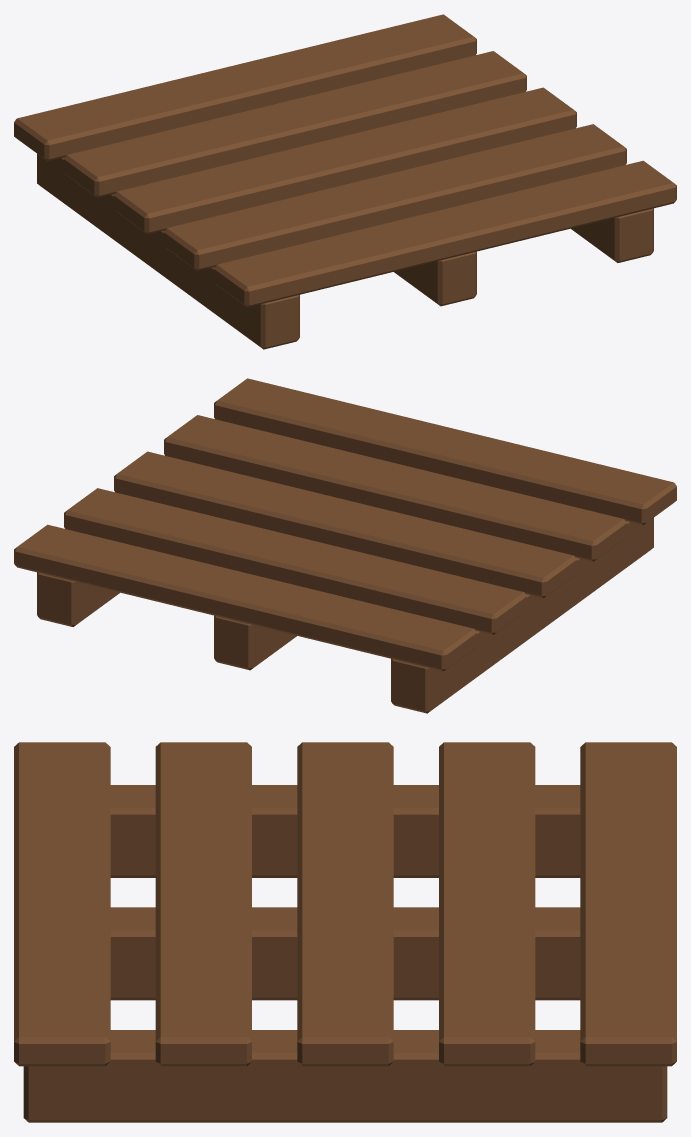
File: WoodPallet.fbx
The picture shows the model from 3 angles, top to bottom: view 1: azimuth 30°, elevation 25°; view 2: azimuth 150°, elevation 25°; view 3: azimuth 270°, elevation 25°; orthographic projection. The views are drawn at different scales.
Parts seen in each view (by area): view 1: WoodPallet; view 2: WoodPallet; view 3: WoodPallet.
Boxes of the visible parts, x1,y1,x2,y2 form: WoodPallet: [14, 14, 676, 349]; WoodPallet: [14, 378, 676, 713]; WoodPallet: [14, 742, 676, 1122].
Bounding box in the file's own units: 110 × 17 × 103.
1 material, 1 textured.
